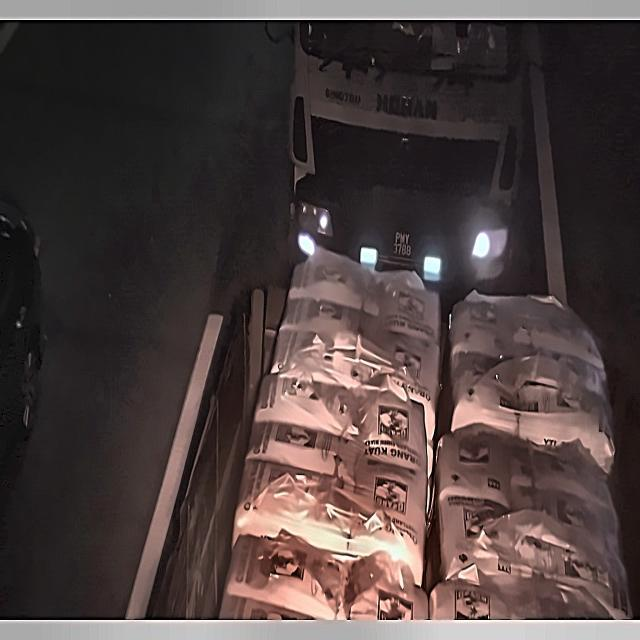car: (382, 223, 422, 263)
